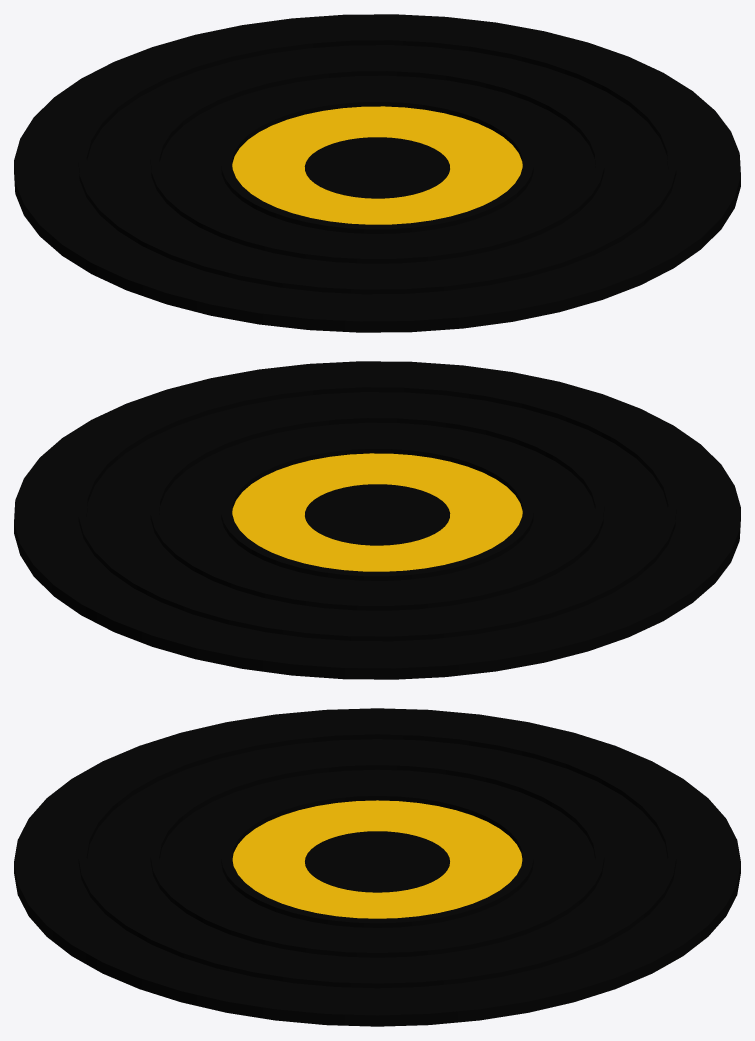
File: bala (1).fbx
3 renders of one model, top to bottom at view 1: azimuth 30°, elevation 25°; view 2: azimuth 150°, elevation 25°; view 3: azimuth 270°, elevation 25°, orthographic.
Parts seen in each view (by area): view 1: bala; view 2: bala; view 3: bala.
Part boxes in pixels (x1,y1,x2,y2): bala: [14, 14, 740, 332]; bala: [14, 361, 740, 679]; bala: [14, 708, 740, 1026].
Size of the model in its own units: 46.7 by 1.12 by 46.7.
